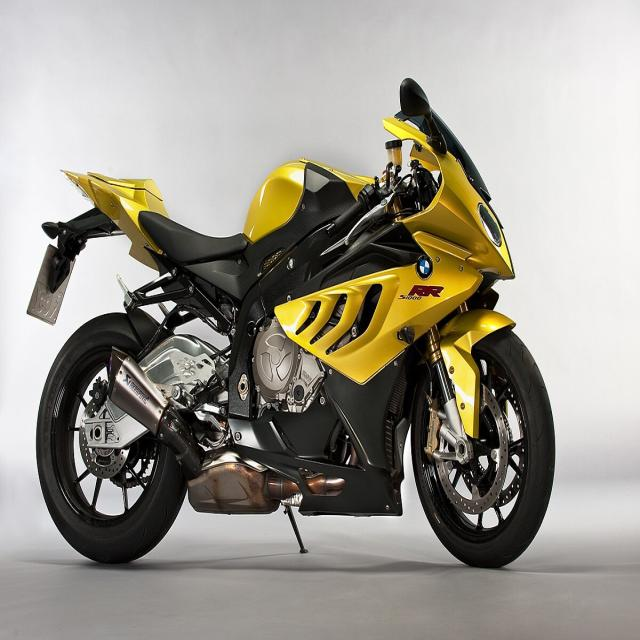Motorcycle: (30, 78, 555, 568)
